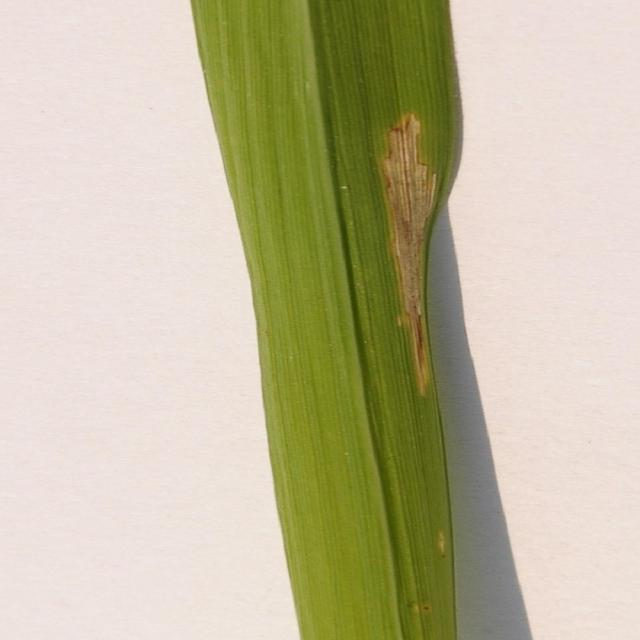leaf blight: (348, 112, 443, 395)
